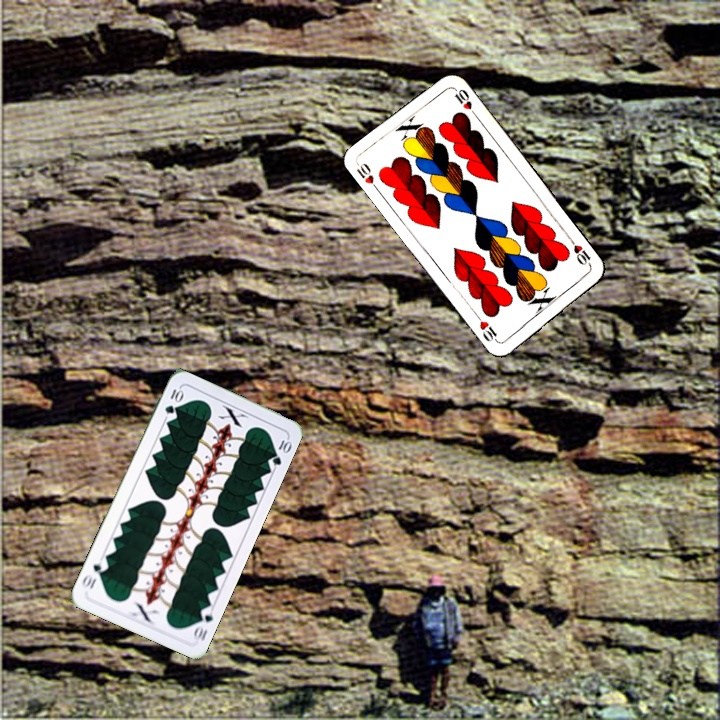G10: (190, 603, 216, 644), (161, 384, 185, 417)
H10: (353, 159, 382, 195), (566, 235, 594, 270)
